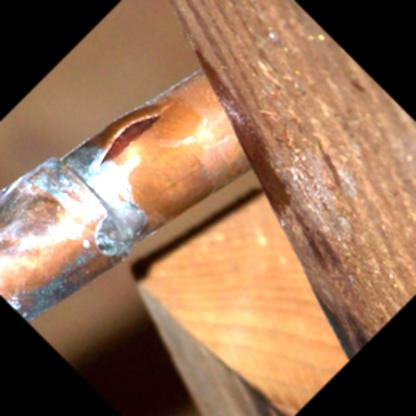burst: (89, 95, 180, 177)
